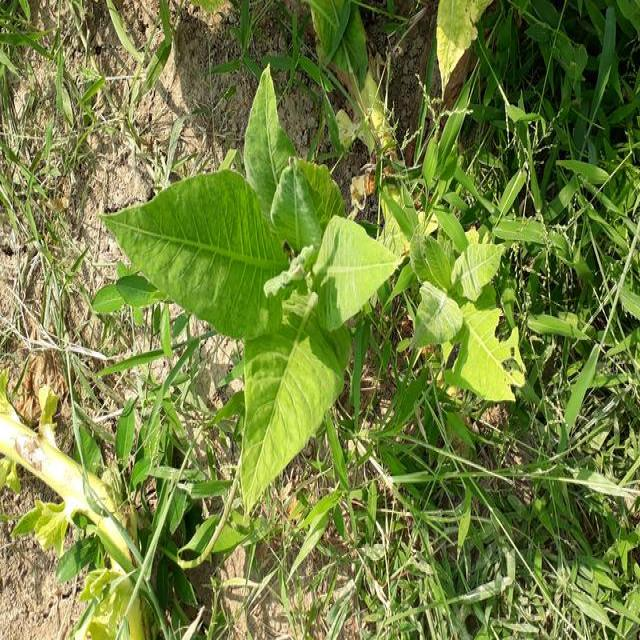crop: (126, 90, 396, 491)
